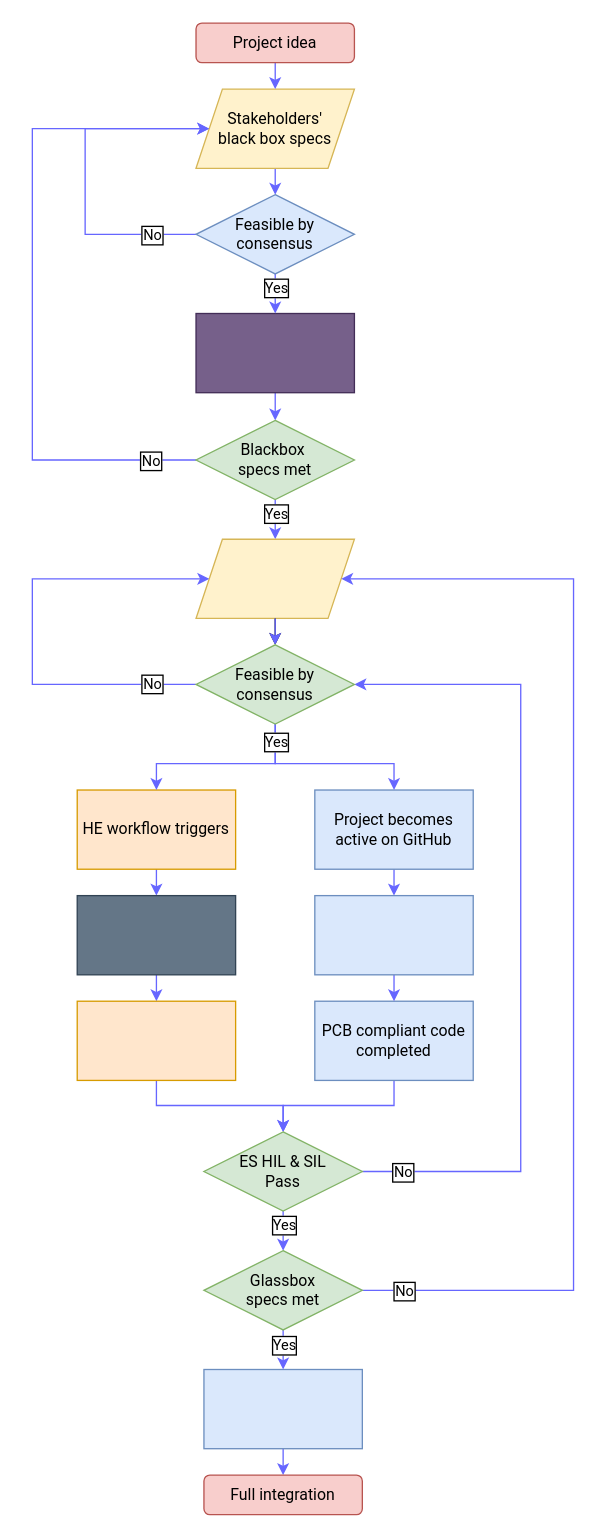
Image size: 607x1538. Some labels were removed from this diagram. Here are the shapes that lost their labels. From the top down, the centre of each, then its label:
At pixel 274 352: "MVP rapid development".
At pixel 274 578: "Stakeholders' glassbox specs".
At pixel 156 934: "HE workflow".
At pixel 393 934: "Continuous GitHub issue based development".
At pixel 156 1040: "HE workflow PCB manufactured".
At pixel 282 1408: "README.md docs completed (GitHub release)".
